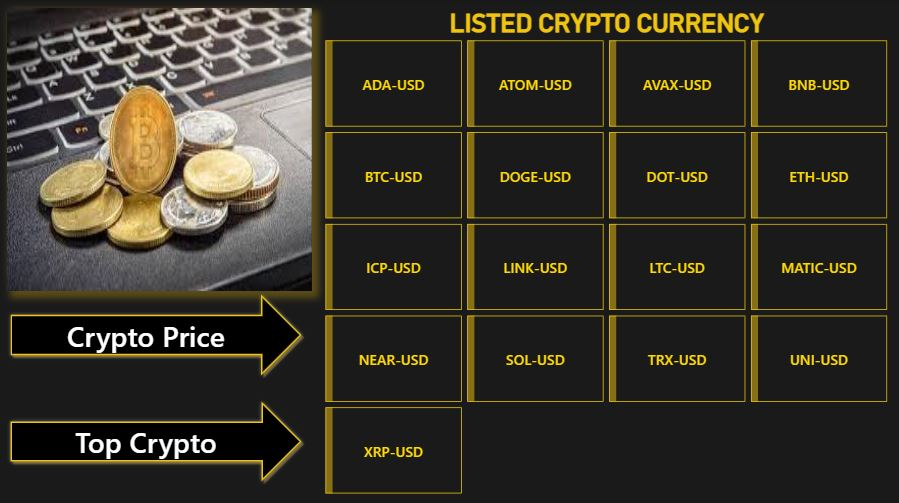

Layout of this report page (visuals, bound fields, positions):
{"tool":"powerbi","page":{"name":"CryptoCurrency","canvas":[1280,720],"ordinal":1},"visuals":[{"type":"shape","title":"Stock Price","box":[14.2,413.9,422.4,124.7],"z":0},{"type":"image","box":[14.2,12.8,368.5,372.8],"z":1000},{"type":"shape","title":"Stock Price","box":[14.2,565.5,422.4,123.3],"z":2000},{"type":"advancedSlicerVisual","title":"LISTED CRYPTO CURRENCY","fields":{"Values":["crypto_data.Ticker"]},"box":[460.6,12.8,807.9,694.5],"z":3000},{"type":"image","box":[14.2,12.8,432.3,401.1],"z":21001}]}

Visuals, with their boxes in screenshot pixels (x1, y1, x2, y2), scaled from the page's 1280x720 canvas onto the 899x503 screenshot:
"Stock Price" shape: rect(10, 289, 307, 376)
image: rect(10, 9, 269, 269)
"Stock Price" shape: rect(10, 395, 307, 481)
"LISTED CRYPTO CURRENCY" advancedSlicerVisual: rect(323, 9, 891, 494)
image: rect(10, 9, 314, 289)
